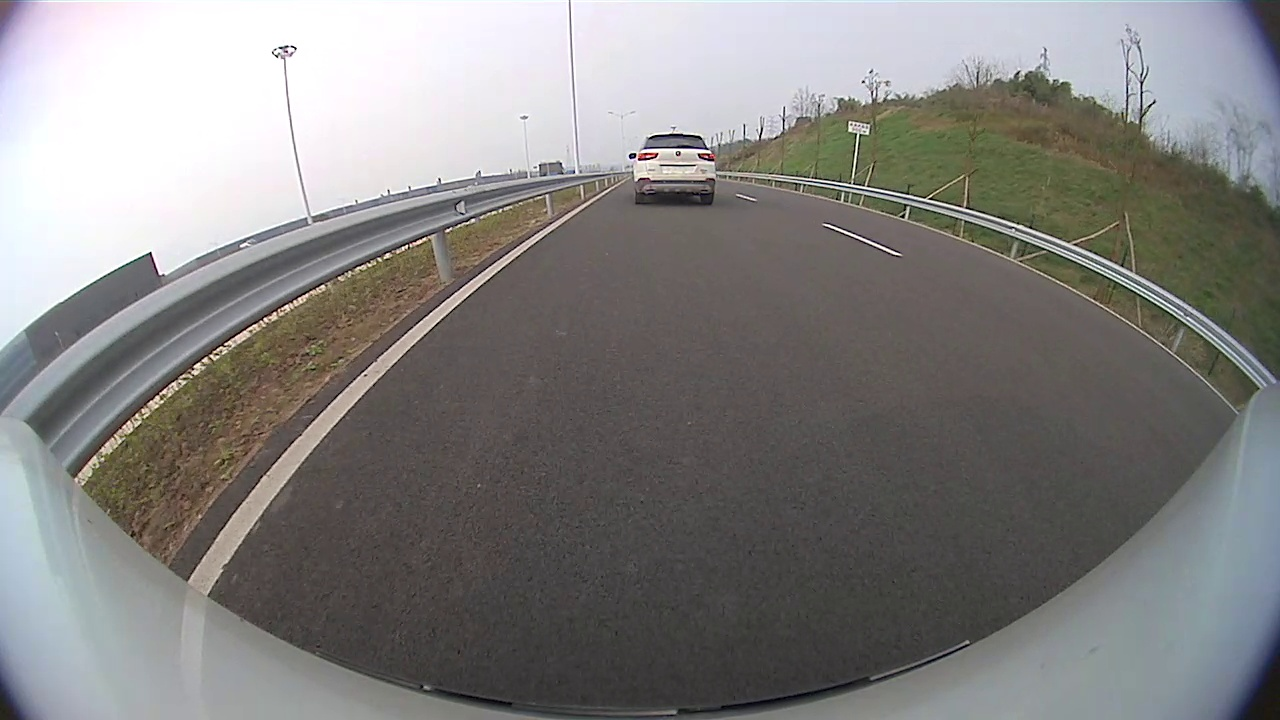car: (628, 133, 717, 205)
